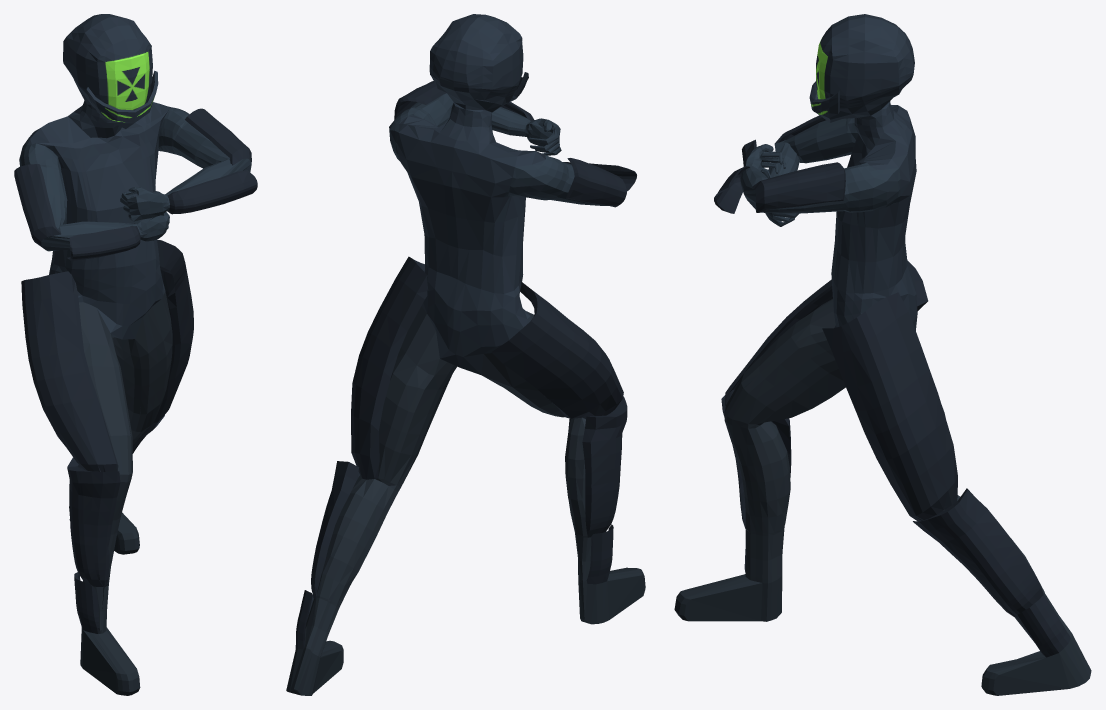
The model's file is Bastion_WB_000027.obj.
The picture shows the model from 3 angles, left to right: view 1: azimuth 30°, elevation 25°; view 2: azimuth 150°, elevation 25°; view 3: azimuth 270°, elevation 25°; orthographic projection. The views are drawn at different scales.
Parts seen in each view (by area): view 1: Cube.002; view 2: Cube.002; view 3: Cube.002.
Part boxes in pixels (x1,y1,x2,y2): Cube.002: (14,14,257,695); Cube.002: (286,14,645,695); Cube.002: (674,14,1091,695).
Bounding box in the file's own units: 1.31 × 3.59 × 2.14.
